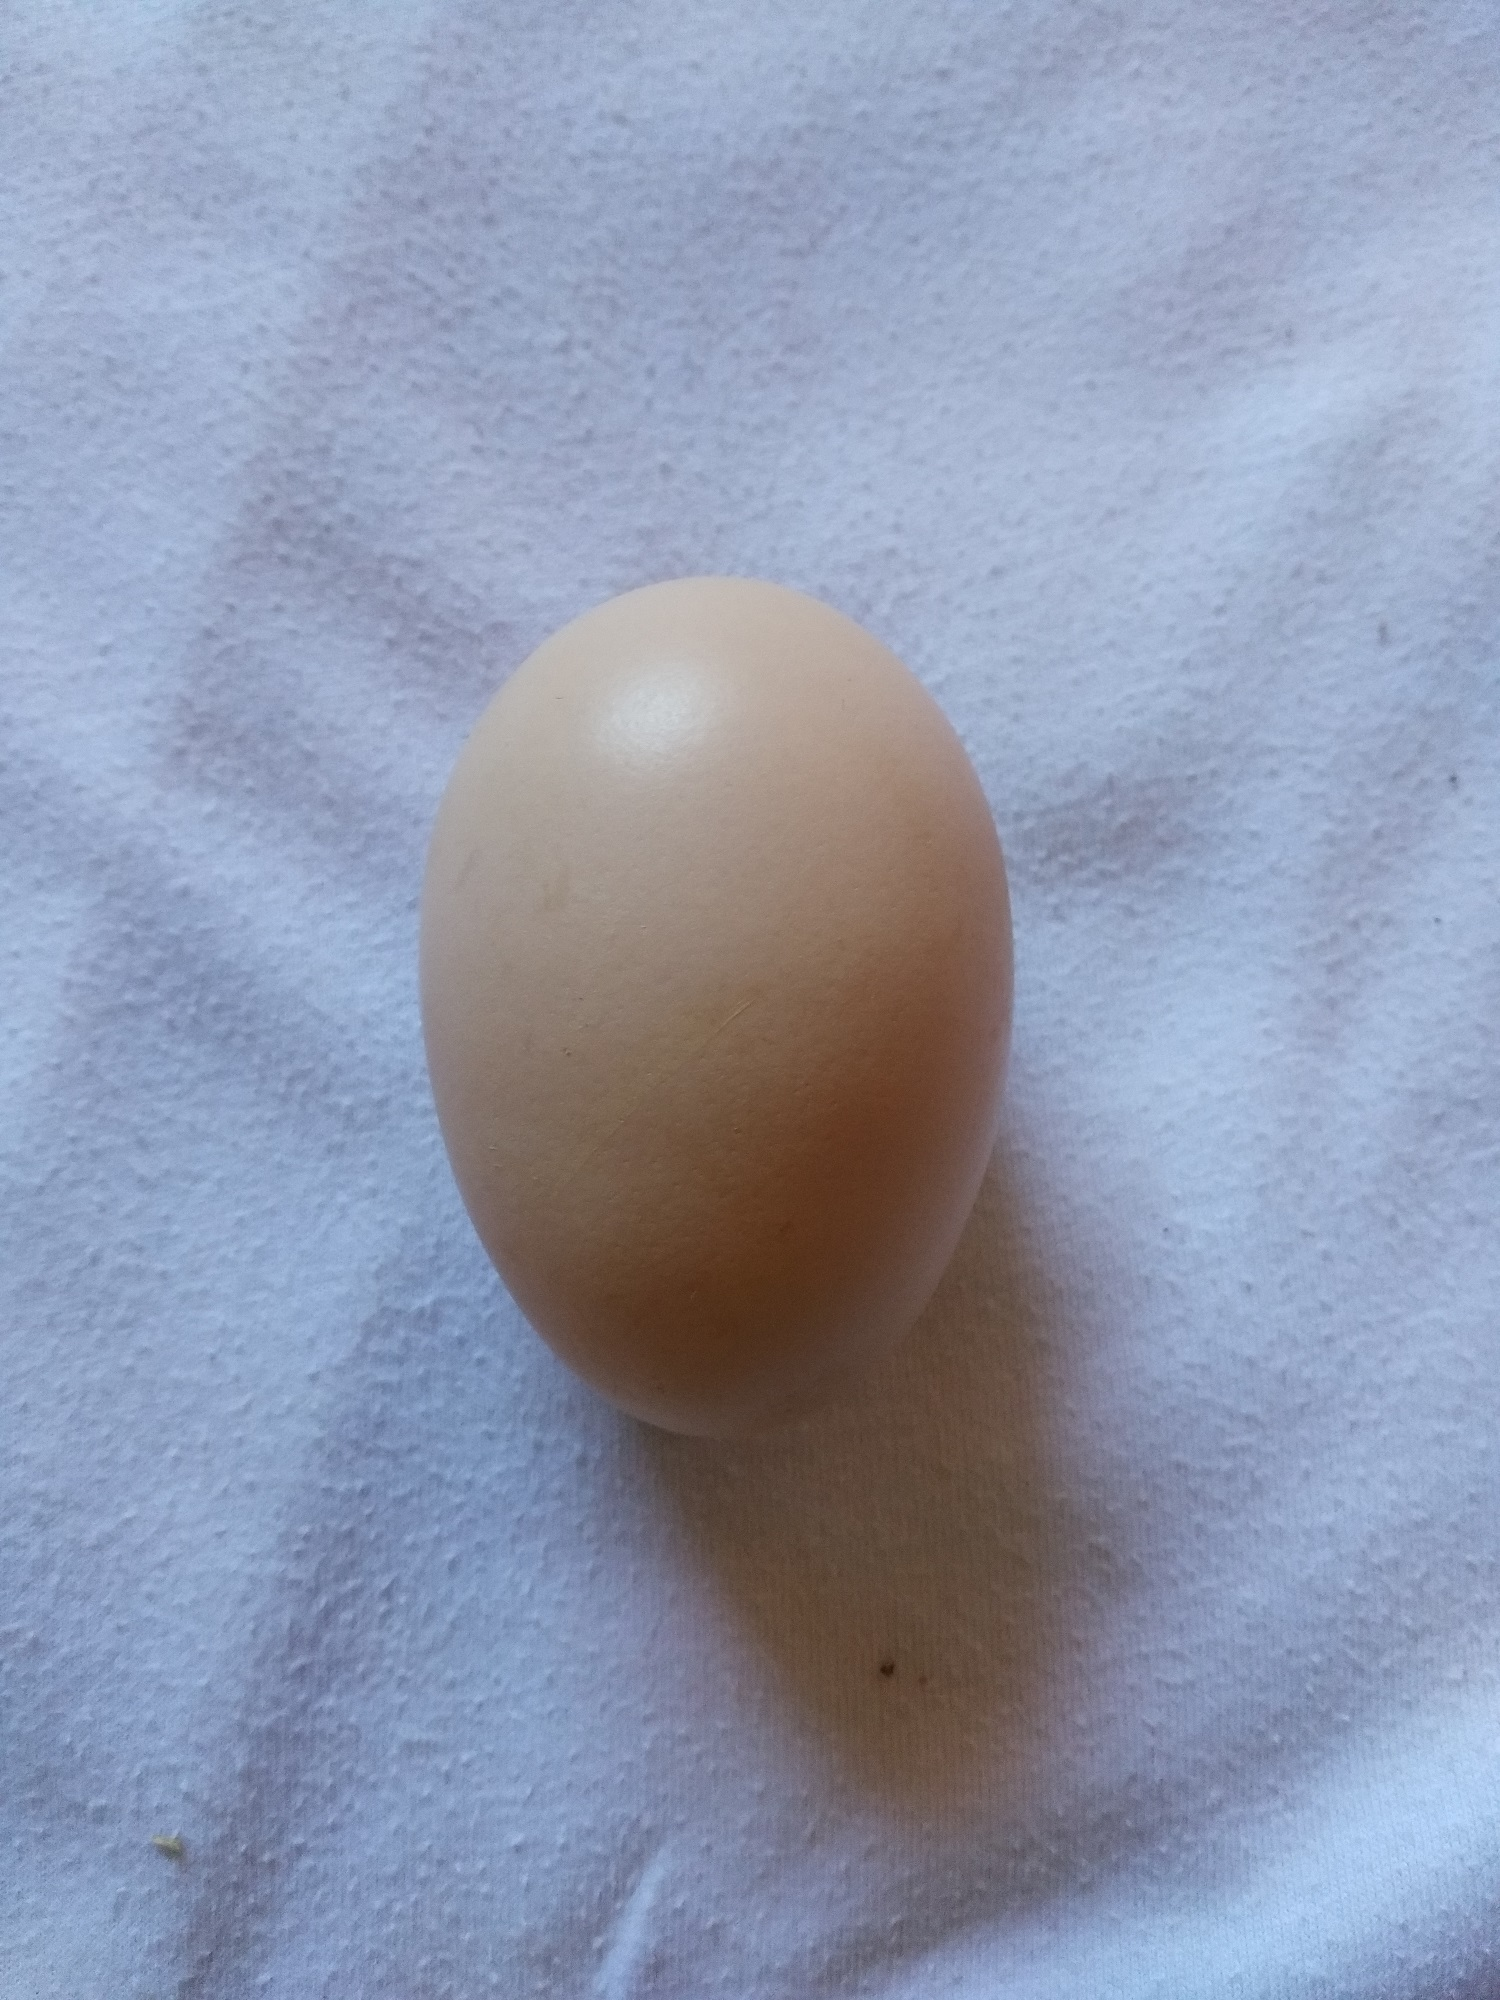Male: (413, 572, 1021, 1446)
